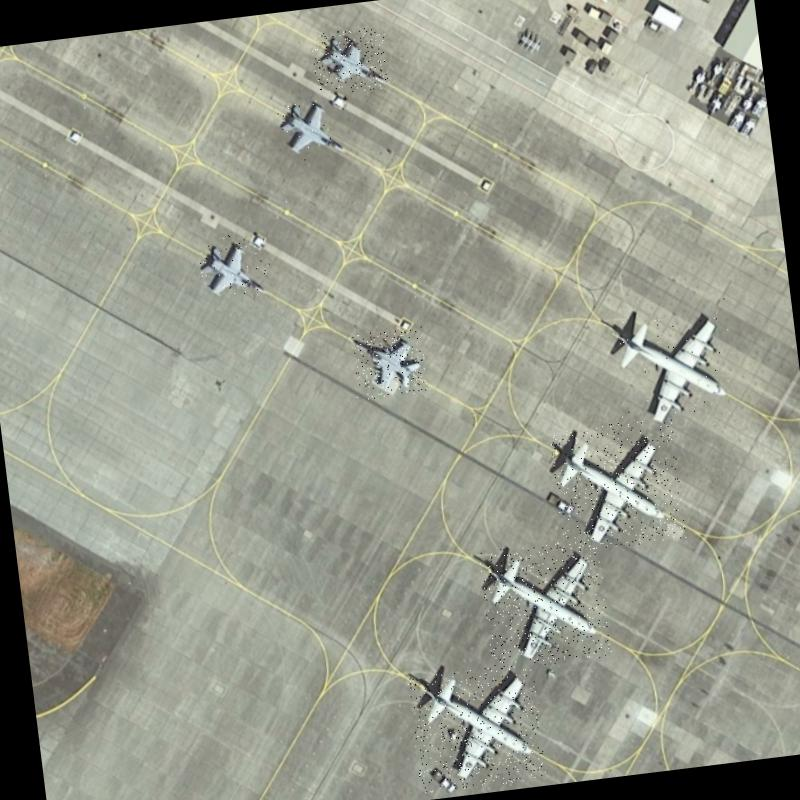A16: (349, 326, 429, 400), (197, 229, 276, 303), (275, 88, 353, 162), (310, 25, 391, 96)
A9: (549, 416, 686, 553), (607, 297, 739, 436), (407, 662, 546, 793), (478, 537, 612, 671)
